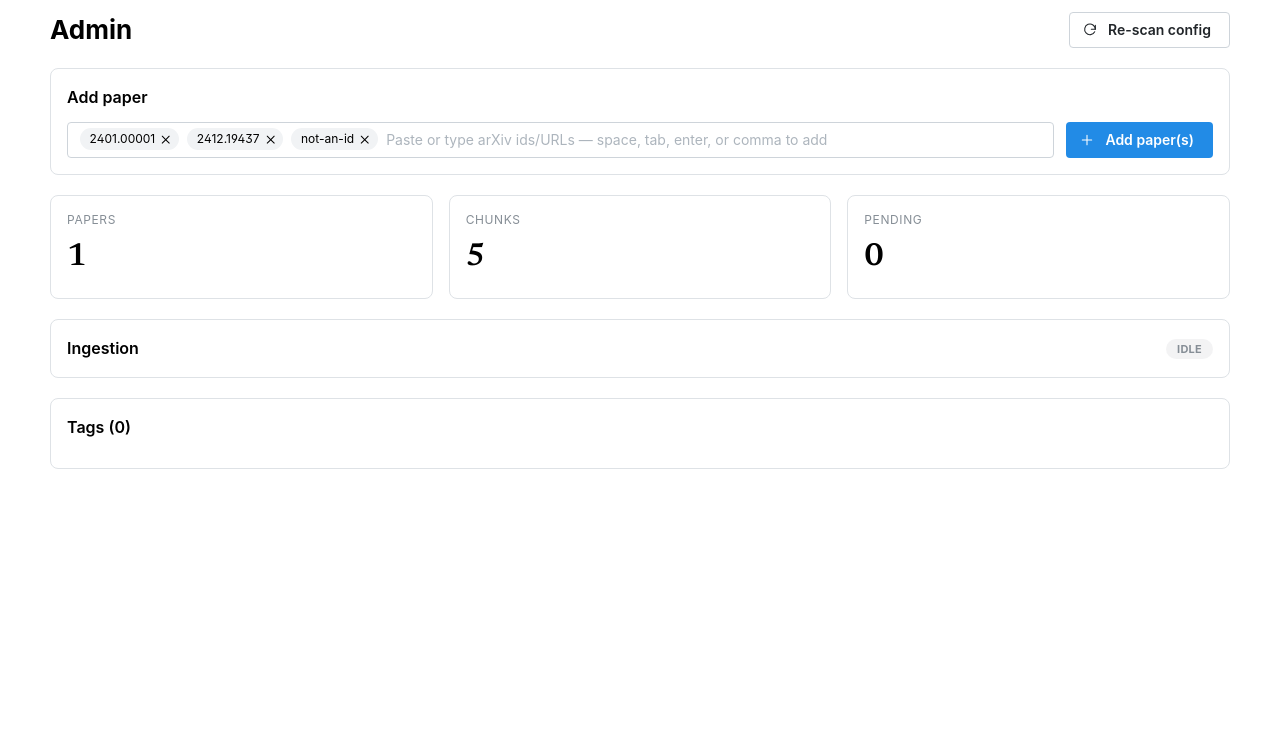
Test: AdminPage add paper › renders a per-line status row for each result
Click the button "Add paper(s)" at (1140, 140), box [1066, 122, 1213, 158]
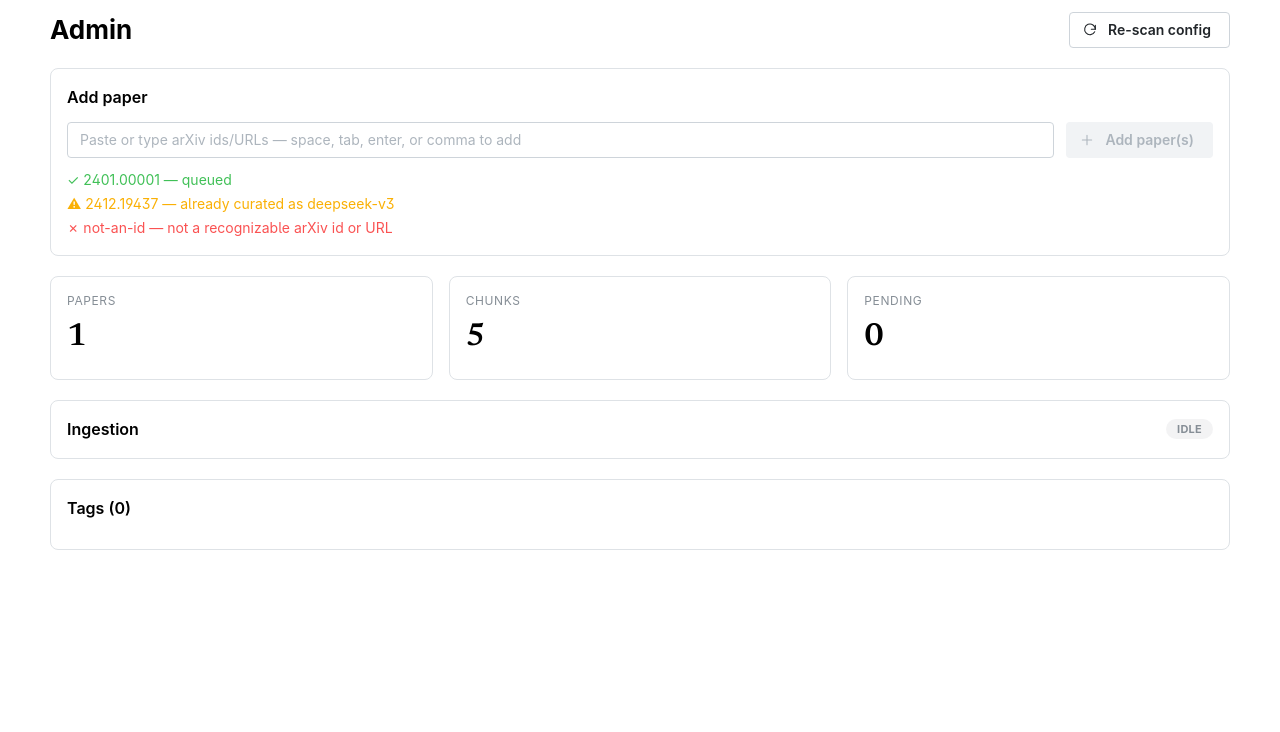
Expected: the text "⚠ 2412.19437 — already curated as deepseek-v3" is shown, [67, 195, 394, 212]
Expected: the text "✗ not-an-id — not a recognizable arXiv id or URL" is shown, [67, 219, 393, 236]
